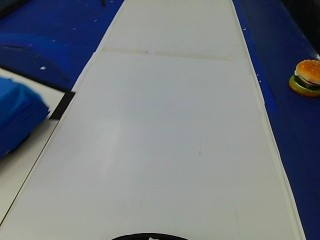burger: (289, 55, 318, 97)
